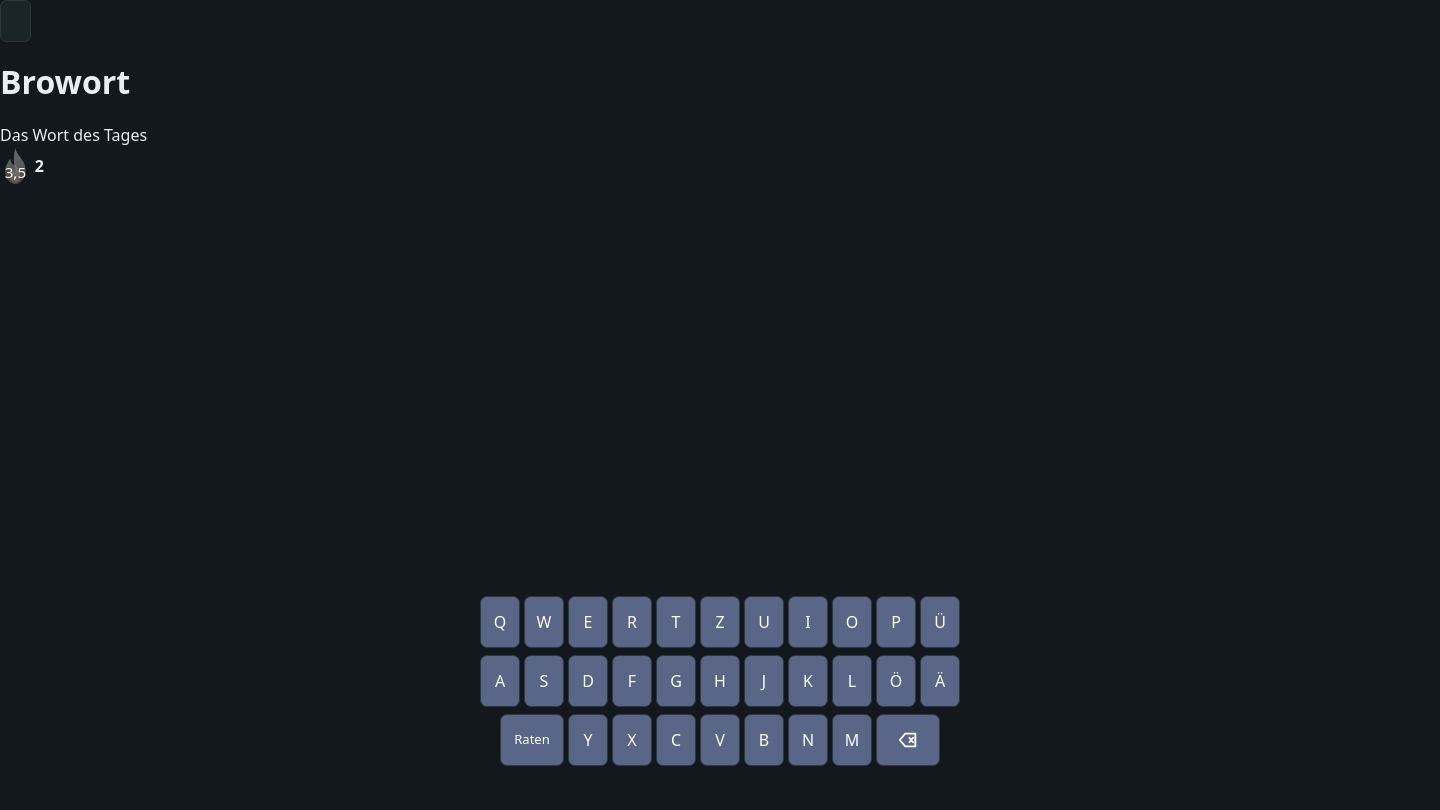
Browort › ein unbekanntes Wort kostet nichts — die Meldung kommt vom Server
Expected: the element named "Serie 2" is shown, [0,147,44,186]
Press the mouse on the button "Q" at (500, 622), box [480,596,520,648]
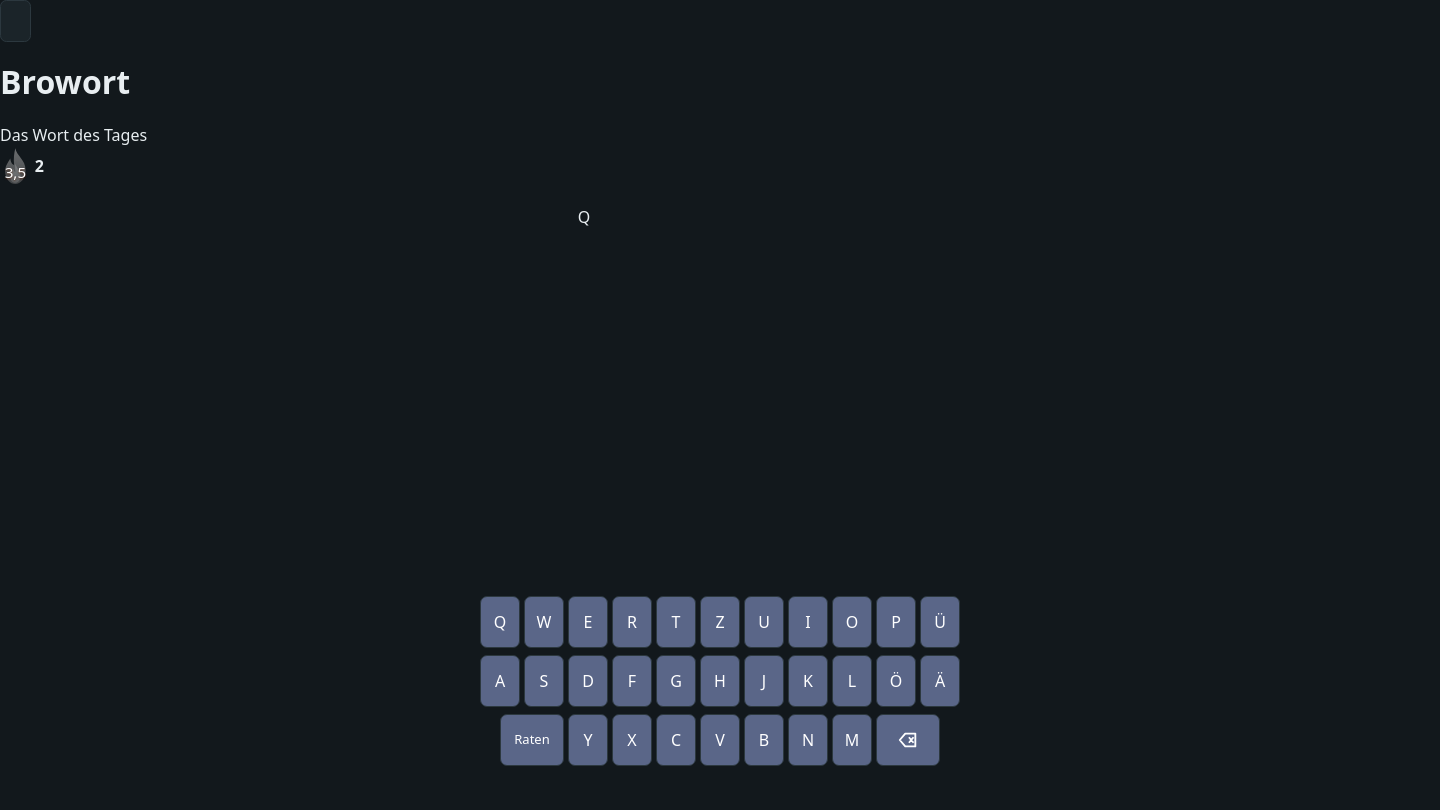
Press the mouse on the button "W" at (544, 622), box [524,596,564,648]
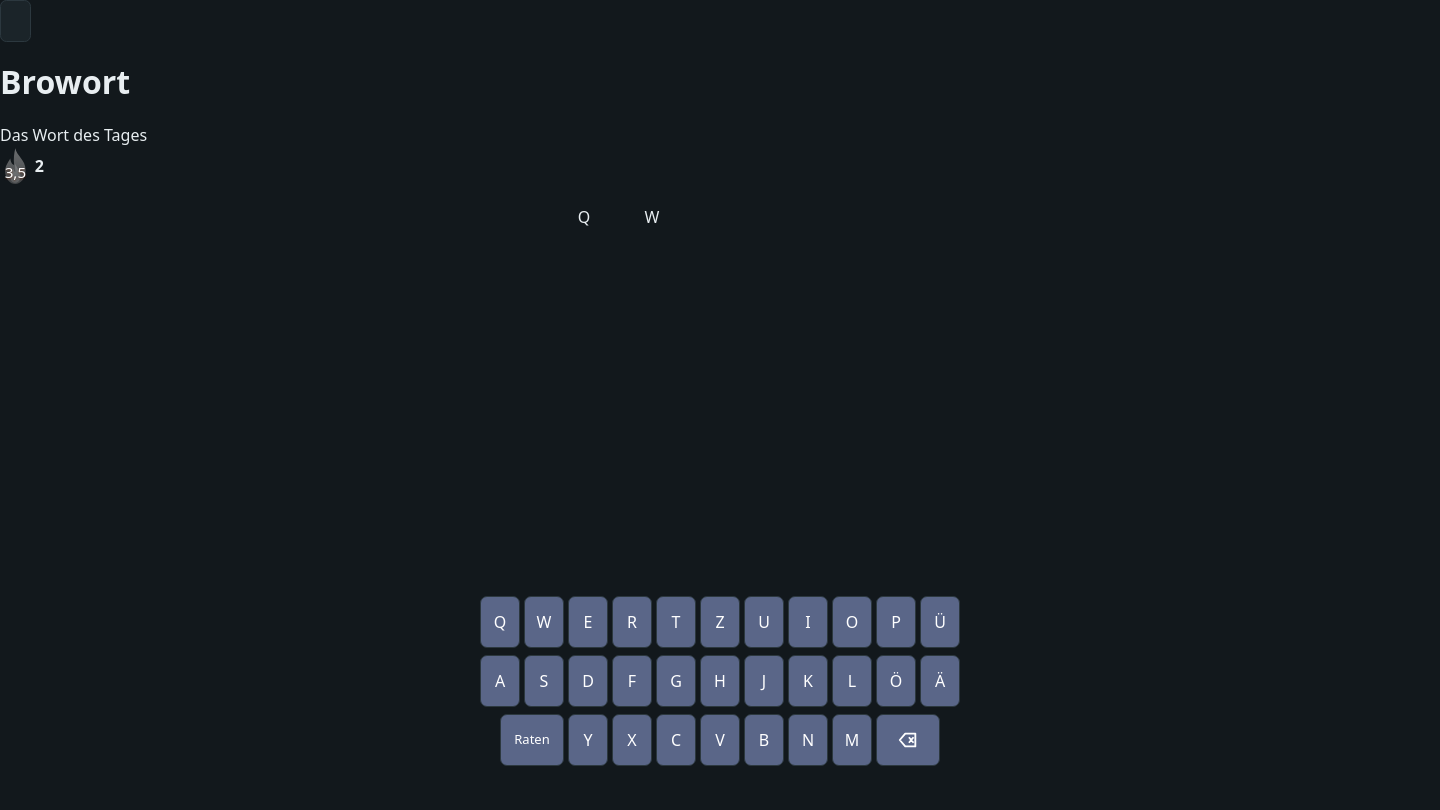
Press the mouse on the button "E" at (588, 622), box [568,596,608,648]
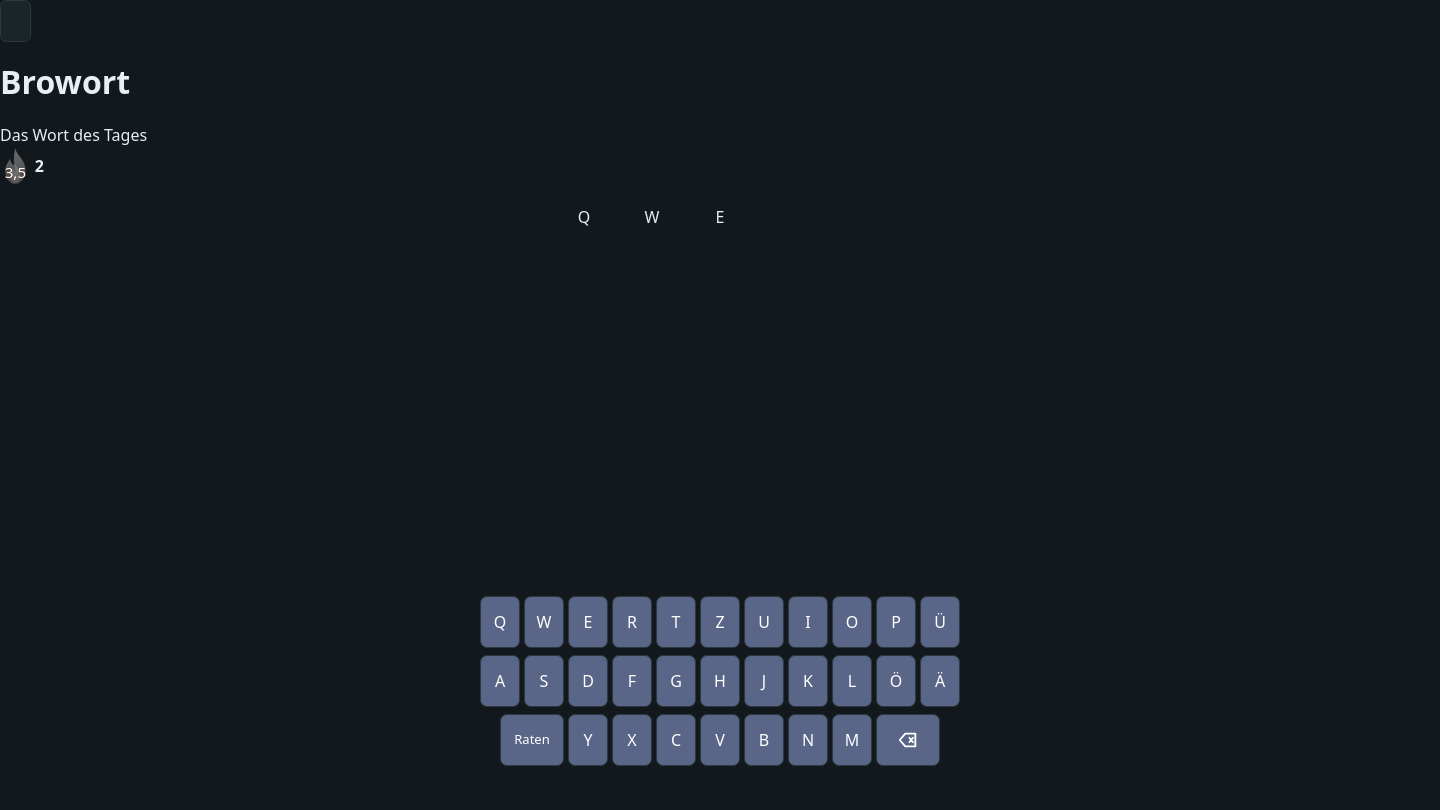
Press the mouse on the button "R" at (632, 622), box [612,596,652,648]
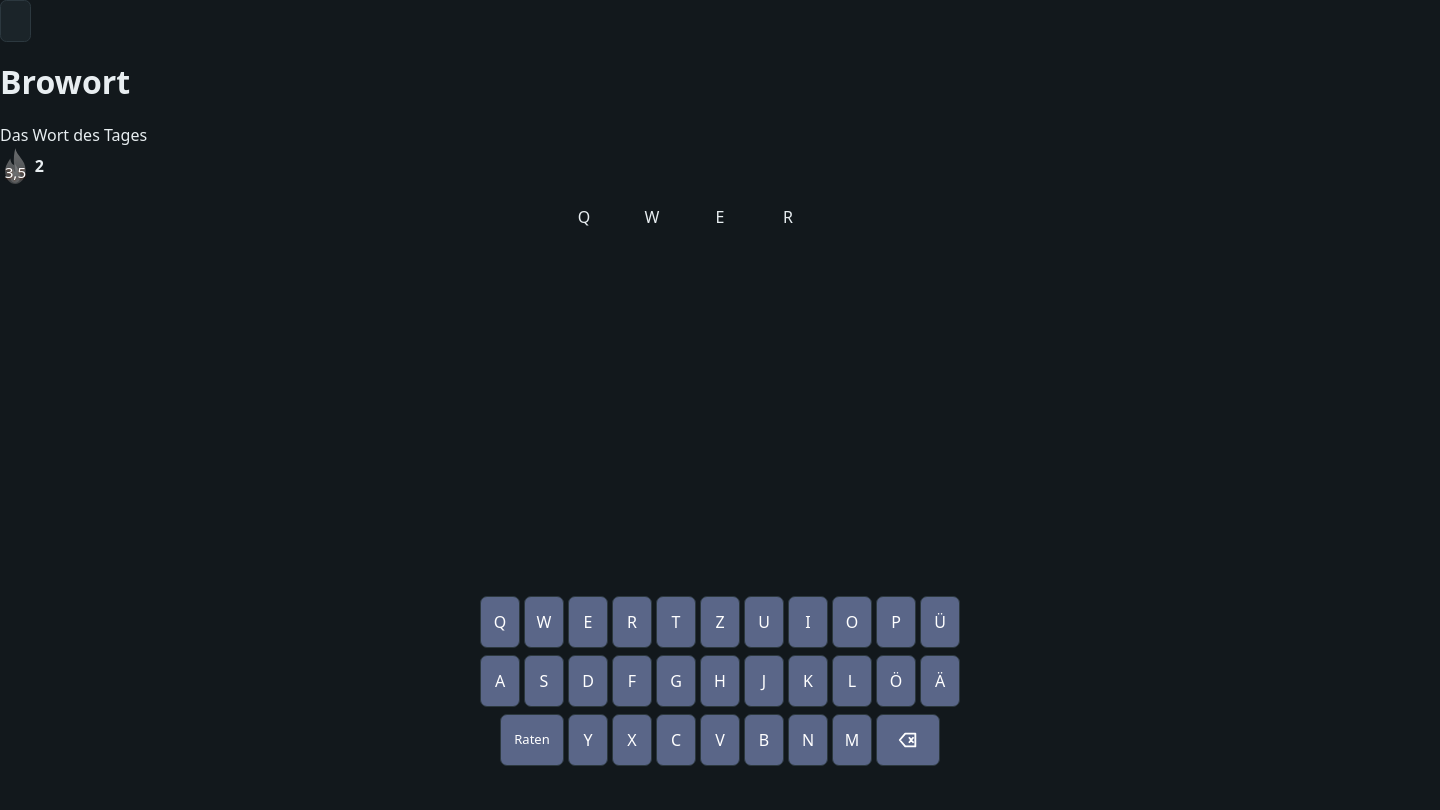
Press the mouse on the button "T" at (676, 622), box [656,596,696,648]
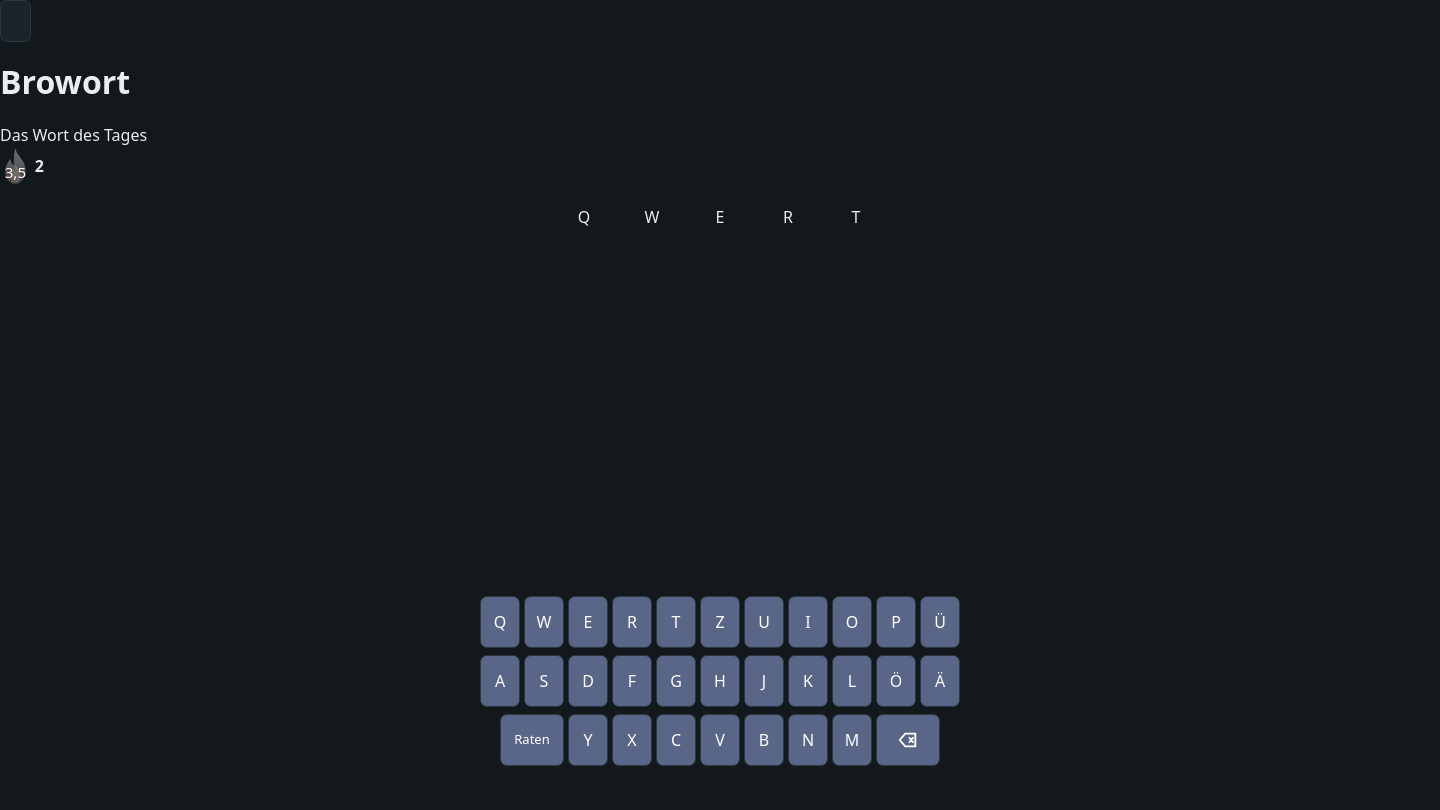
Press the mouse on the button "Raten" at (532, 740), box [500,714,564,766]
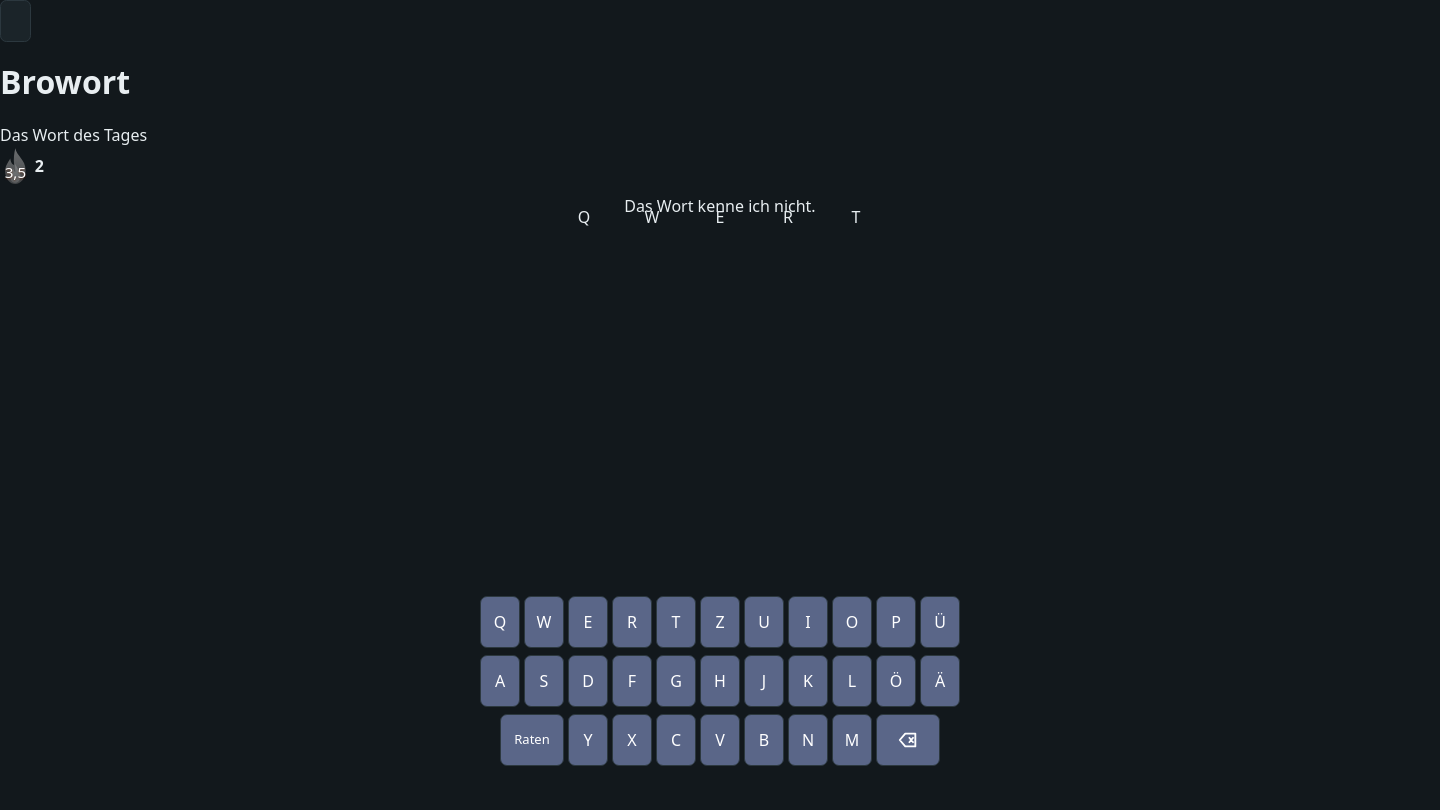
Now the row "Q W E R T" is shown, box [578,206,860,228]
Now the message reads "Das Wort kenne ich nicht.", box [624,195,816,217]
